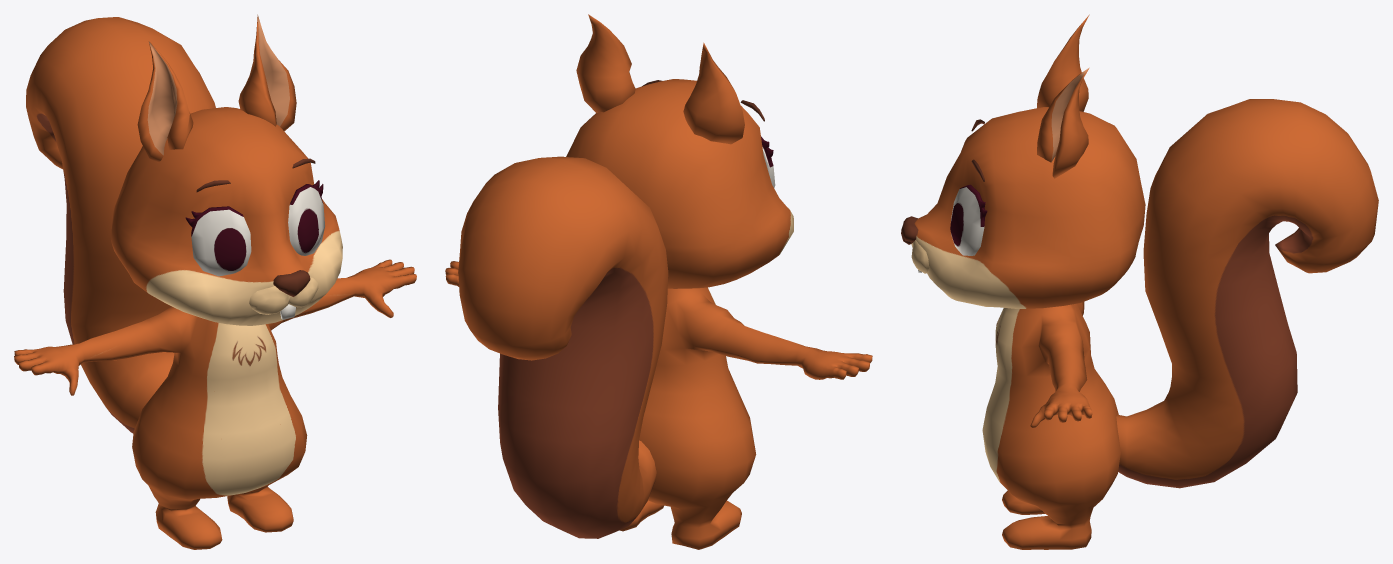
The model's file is Esquila.fbx.
The picture shows the model from 3 angles, left to right: view 1: azimuth 30°, elevation 25°; view 2: azimuth 150°, elevation 25°; view 3: azimuth 270°, elevation 25°; orthographic projection. The views are drawn at different scales.
Visible parts, largest first — view 1: Player; view 2: Player; view 3: Player.
Part boxes in pixels (left/top/right/bottom): Player: left=14, top=14, right=416, bottom=549; Player: left=445, top=14, right=872, bottom=549; Player: left=901, top=14, right=1378, bottom=549.
Size of the model in its own units: 59.84 by 69.74 by 62.54.
